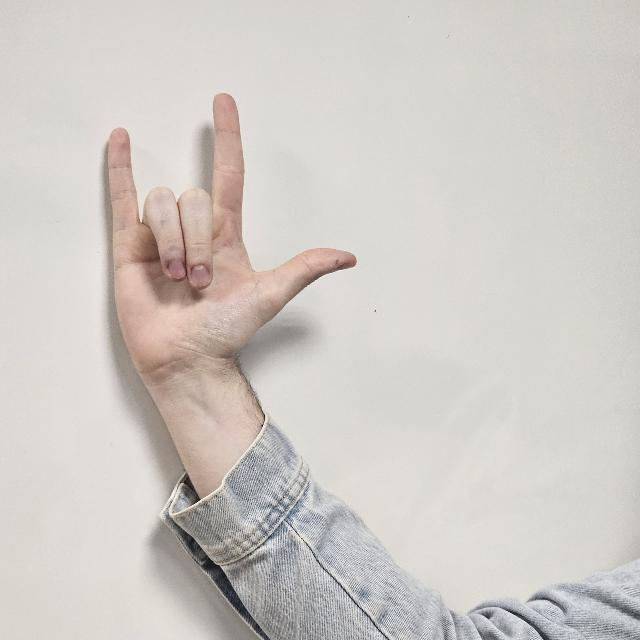Cima: (102, 92, 356, 370)
